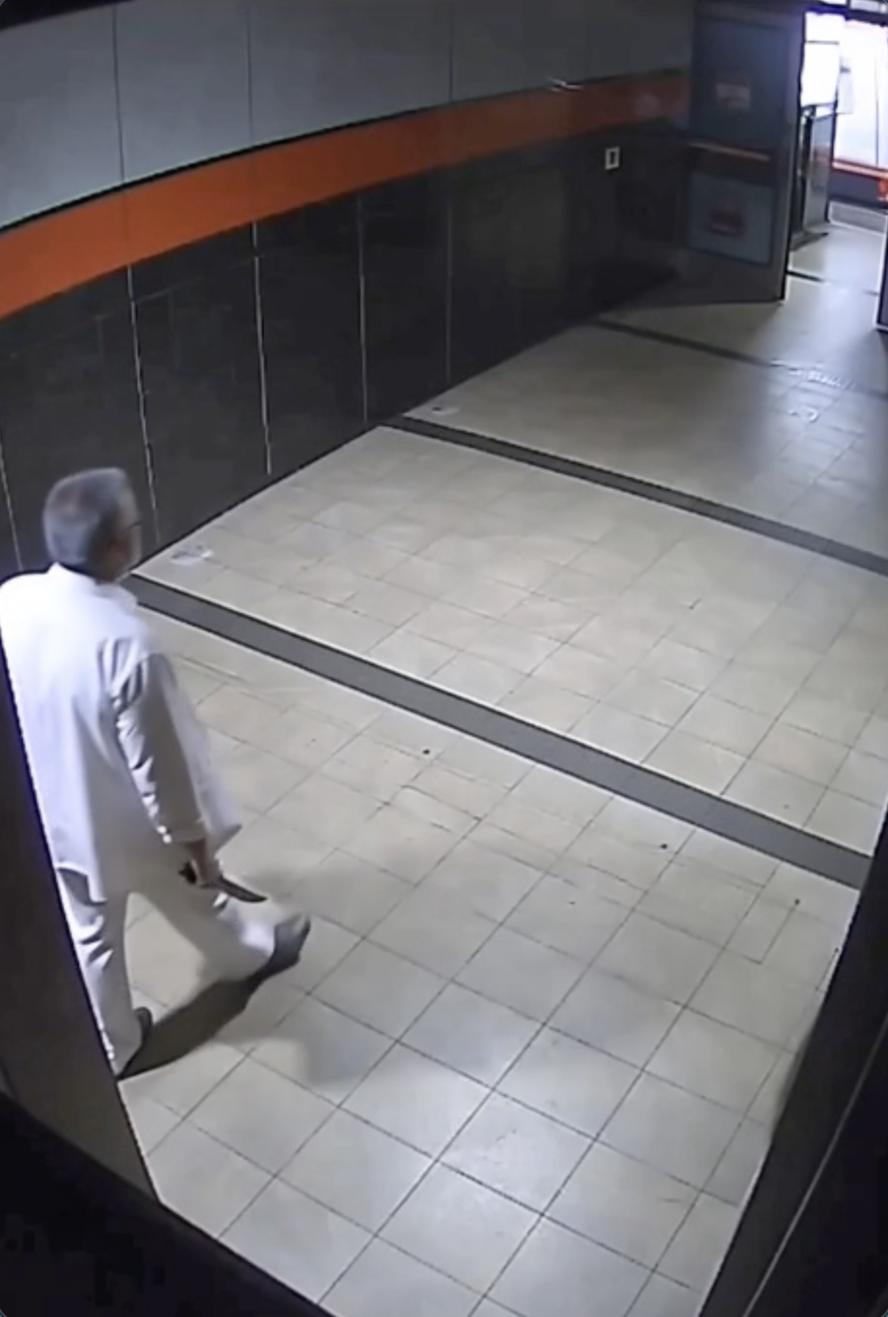Heavy Gun: (1, 460, 311, 1081)
Knife: (175, 840, 272, 914)
